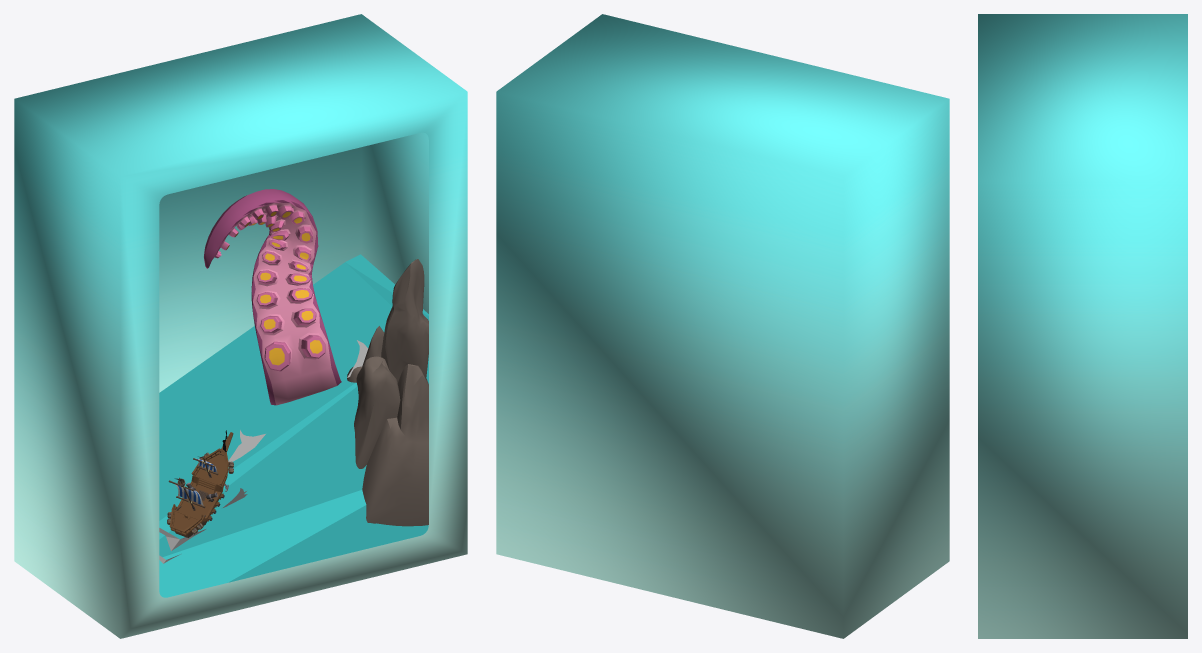
The model's file is 13_SeaMonster.glb.
3 renders of one model, left to right at view 1: azimuth 30°, elevation 25°; view 2: azimuth 150°, elevation 25°; view 3: azimuth 270°, elevation 25°, orthographic.
Parts seen in each view (by area): view 1: 13_SeaMonster_bg, 13_SeaMonster; view 2: 13_SeaMonster_bg; view 3: 13_SeaMonster_bg.
Part boxes in pixels (x1,y1,x2,y2): 13_SeaMonster_bg: (14, 14, 467, 638); 13_SeaMonster: (159, 189, 428, 597); 13_SeaMonster_bg: (496, 14, 949, 638); 13_SeaMonster_bg: (978, 14, 1187, 638).
Size of the model in its own units: 2.76 by 3.51 by 1.46.
2 materials, 2 textured.
